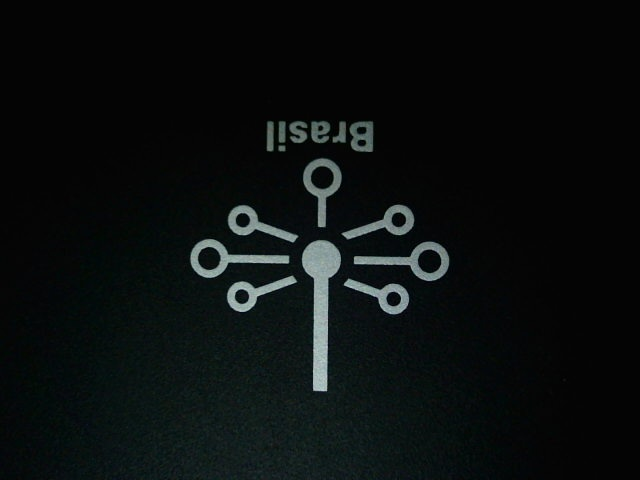BG_Brasil: (175, 101, 469, 407)
